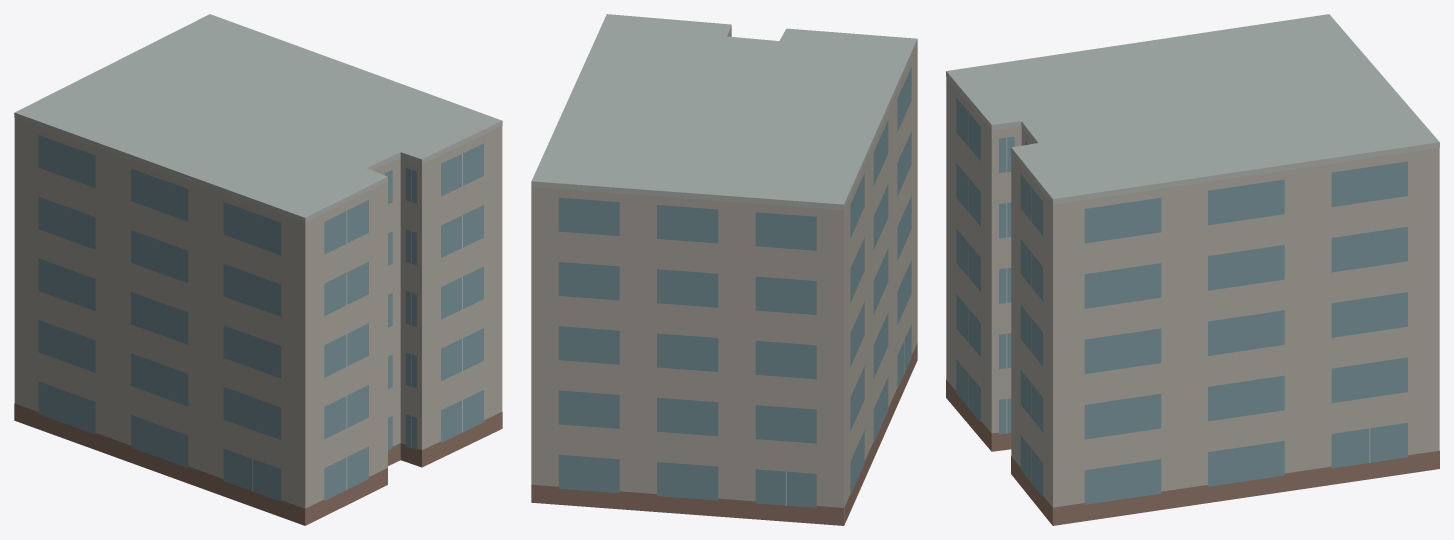
File: survey-upis-32696777.glb
The picture shows the model from 3 angles, left to right: view 1: azimuth 30°, elevation 25°; view 2: azimuth 150°, elevation 25°; view 3: azimuth 270°, elevation 25°; orthographic projection. The views are drawn at different scales.
Visible parts, largest first — view 1: survey-upis-32696777.tmp; view 2: survey-upis-32696777.tmp; view 3: survey-upis-32696777.tmp.
Part boxes in pixels (x1=…): survey-upis-32696777.tmp: x1=14, y1=14, x2=502, y2=525; survey-upis-32696777.tmp: x1=531, y1=14, x2=917, y2=525; survey-upis-32696777.tmp: x1=946, y1=14, x2=1439, y2=525.
Bounding box in the file's own units: 17.51 × 14.4 × 19.73.
